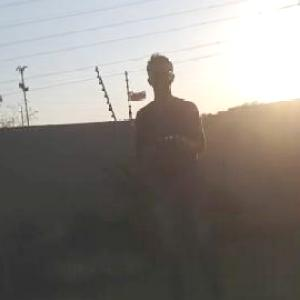follow: (132, 48, 217, 299)
